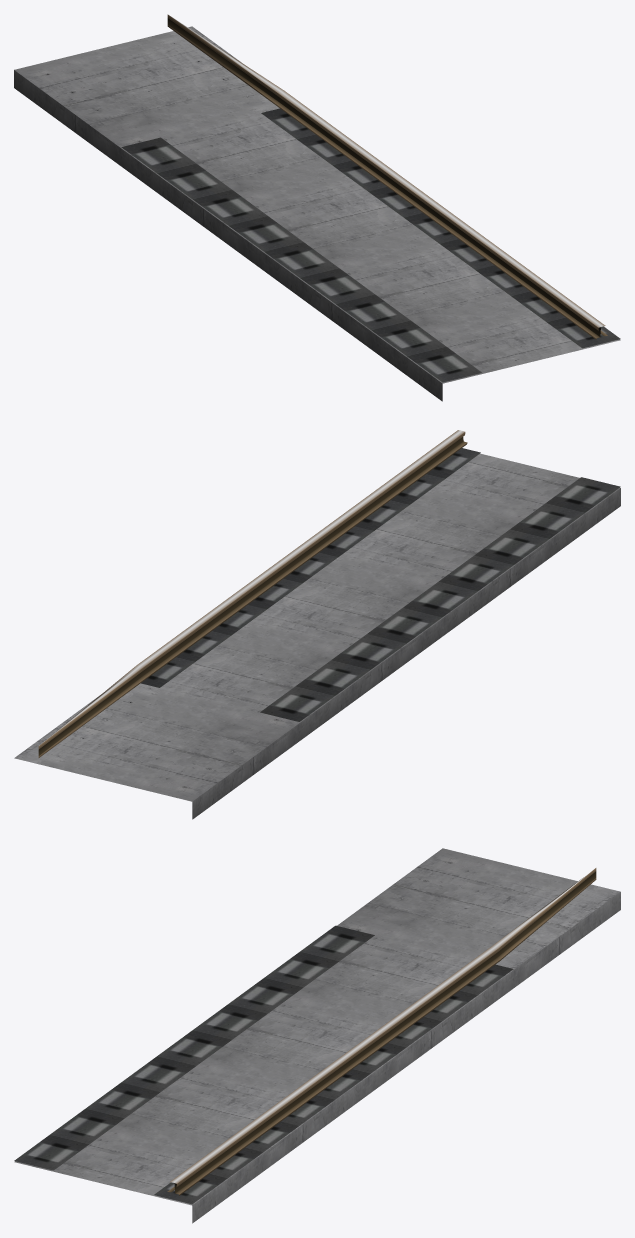
The model's file is AMB_POINTRAIL_25_CHIKA.glb.
3 views of the same model, one above another, from view 1: azimuth 30°, elevation 25°; view 2: azimuth 150°, elevation 25°; view 3: azimuth 330°, elevation 25° (orthographic).
Parts seen in each view (by area): view 1: Mesh1; view 2: Mesh1; view 3: Mesh1.
Part boxes in pixels (<box>): Mesh1: <box>14,14,620,401</box>; Mesh1: <box>14,430,620,819</box>; Mesh1: <box>14,848,620,1223</box>.
Size of the model in its own units: 6 by 1.17 by 25.
Materials: 4 (3 with a texture image).
